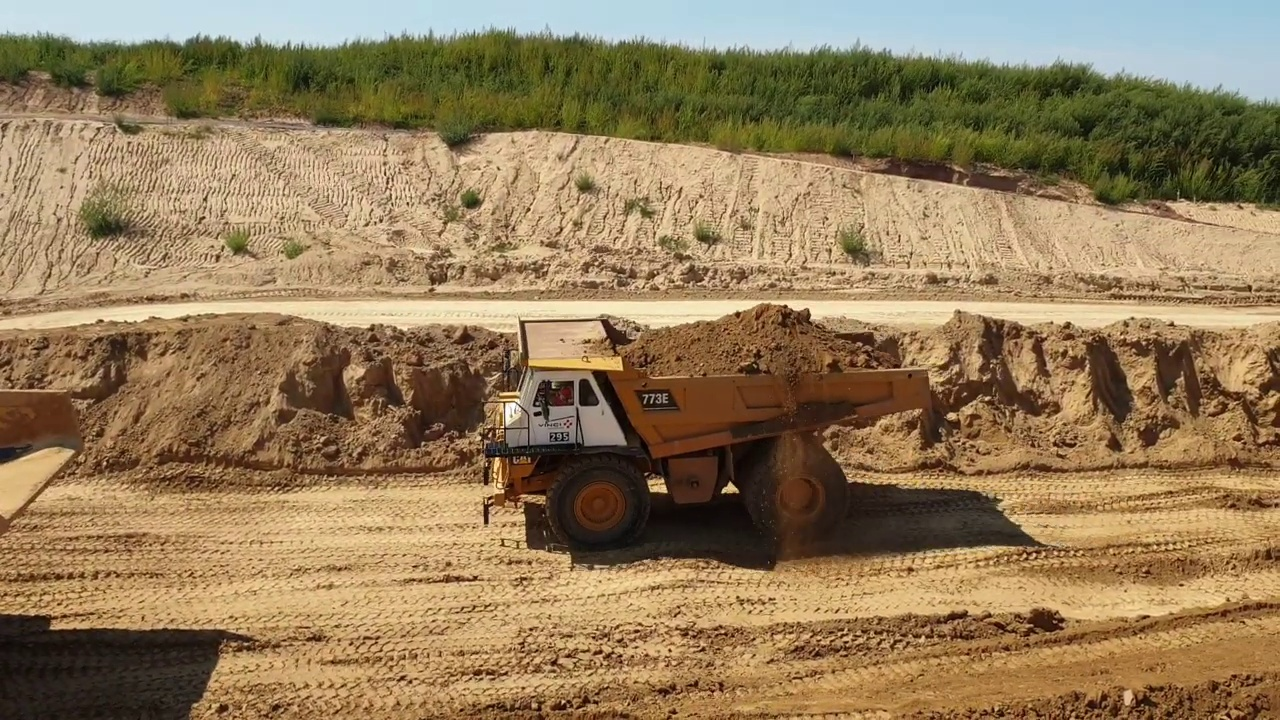truck: (478, 306, 939, 555), (2, 385, 85, 564)
